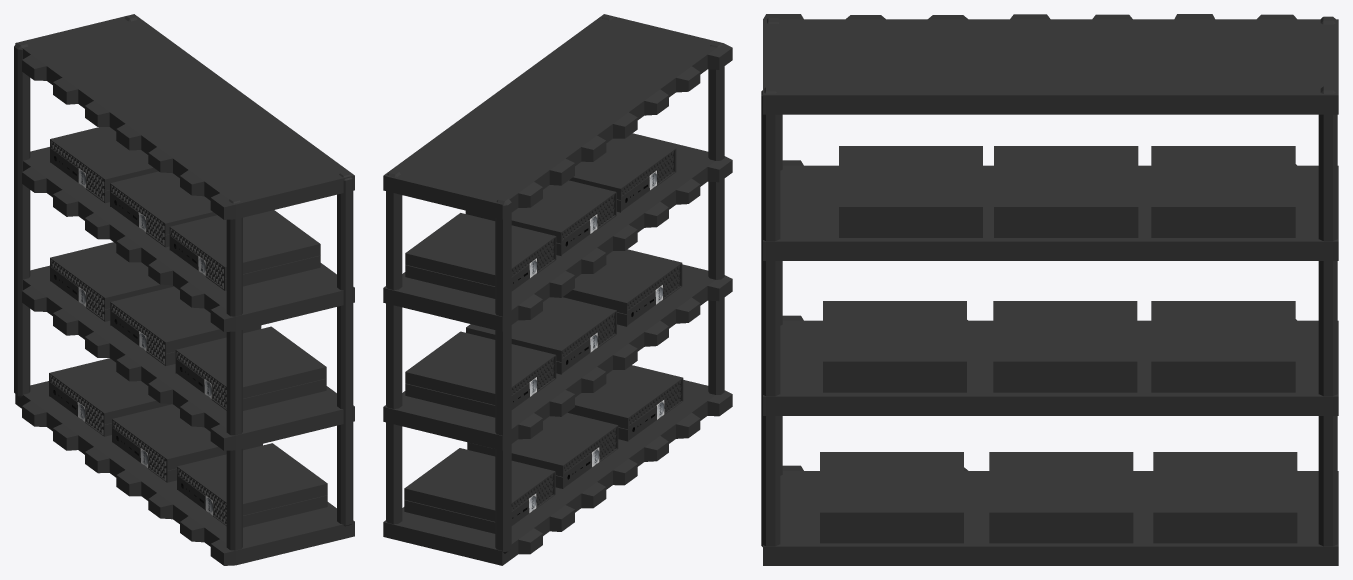
Rendered from ServerRack.glb.
3 renders of one model, left to right at view 1: azimuth 30°, elevation 25°; view 2: azimuth 150°, elevation 25°; view 3: azimuth 270°, elevation 25°, orthographic. The views are drawn at different scales.
Parts seen in each view (by area): view 1: Cube.002, Cube.009, Cube.010, Cube.007, Cube.004, Cube.003, Cube.005, Cube.001, Cube.006, Cube.008; view 2: Cube.002, Cube.005, Cube.006, Cube.001, Cube.009, Cube.004, Cube.003, Cube.010, Cube.008, Cube.007; view 3: Cube.002, Cube.004, Cube.005, Cube.006, Cube.008, Cube.001, Cube.003, Cube.007, Cube.009, Cube.010.
Part boxes in pixels (x1,y1,x2,y2): Cube.002: (14, 14, 354, 565); Cube.009: (175, 326, 326, 410); Cube.010: (177, 443, 327, 527); Cube.007: (169, 210, 320, 290); Cube.004: (110, 286, 261, 365); Cube.003: (112, 404, 262, 482); Cube.005: (50, 242, 173, 321); Cube.001: (49, 358, 171, 436); Cube.006: (50, 127, 158, 203); Cube.008: (110, 171, 216, 247); Cube.002: (383, 14, 732, 565); Cube.005: (405, 331, 556, 417); Cube.006: (405, 213, 556, 298); Cube.001: (404, 448, 555, 533); Cube.009: (563, 249, 682, 326); Cube.004: (466, 297, 616, 374); Cube.003: (467, 412, 618, 488); Cube.010: (567, 365, 683, 441); Cube.008: (465, 180, 616, 255); Cube.007: (569, 136, 676, 212); Cube.002: (761, 14, 1338, 565); Cube.004: (993, 301, 1137, 392); Cube.005: (1151, 301, 1295, 392); Cube.006: (1151, 146, 1295, 237); Cube.008: (994, 146, 1138, 237); Cube.001: (1153, 452, 1297, 543); Cube.003: (989, 452, 1133, 543); Cube.007: (839, 146, 982, 237); Cube.009: (823, 301, 966, 392); Cube.010: (820, 452, 963, 543).
Size of the model in its own units: 2.71 by 7.25 by 8.01.
Materials: 3 (1 with a texture image).
